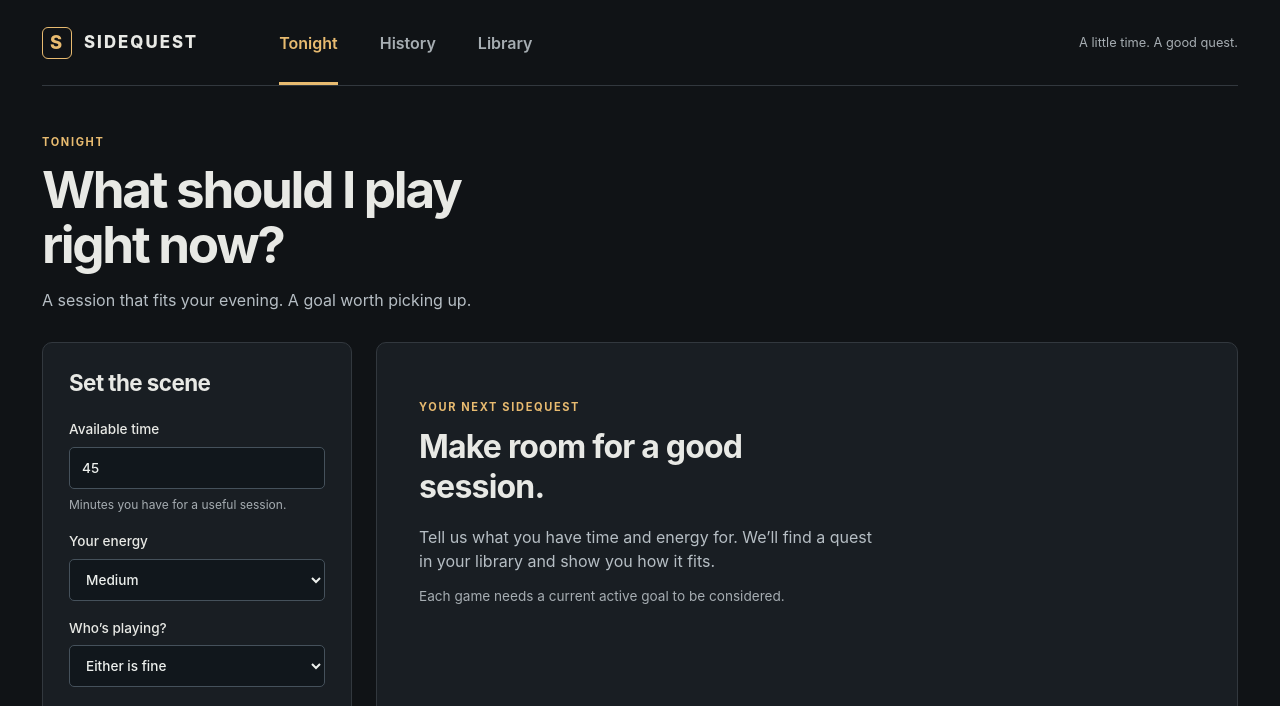
Test: Tonight › constructs the four-field request from controls
Step 1. Replace the text in the number field labelled "Available time" with "90" → (197, 468), box [69,447,325,489]
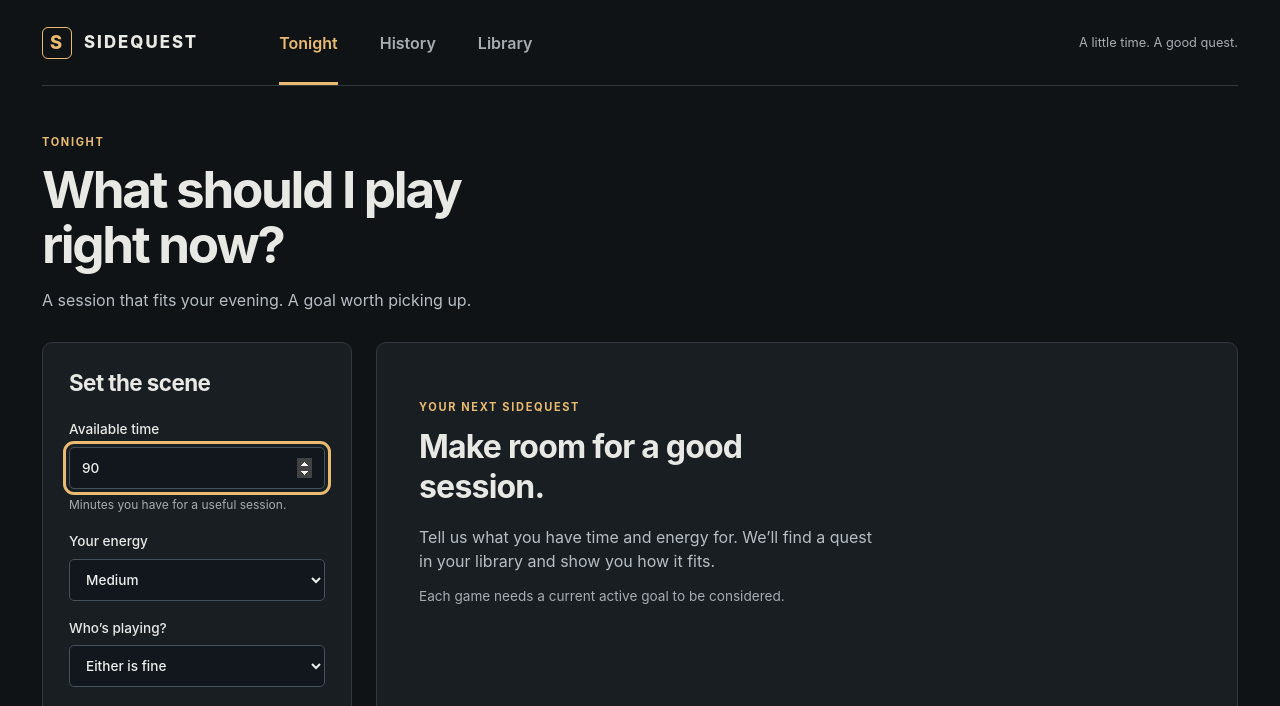
Step 2. Select "High" in the dropdown labelled "Your energy" → (197, 580), box [69,558,325,600]
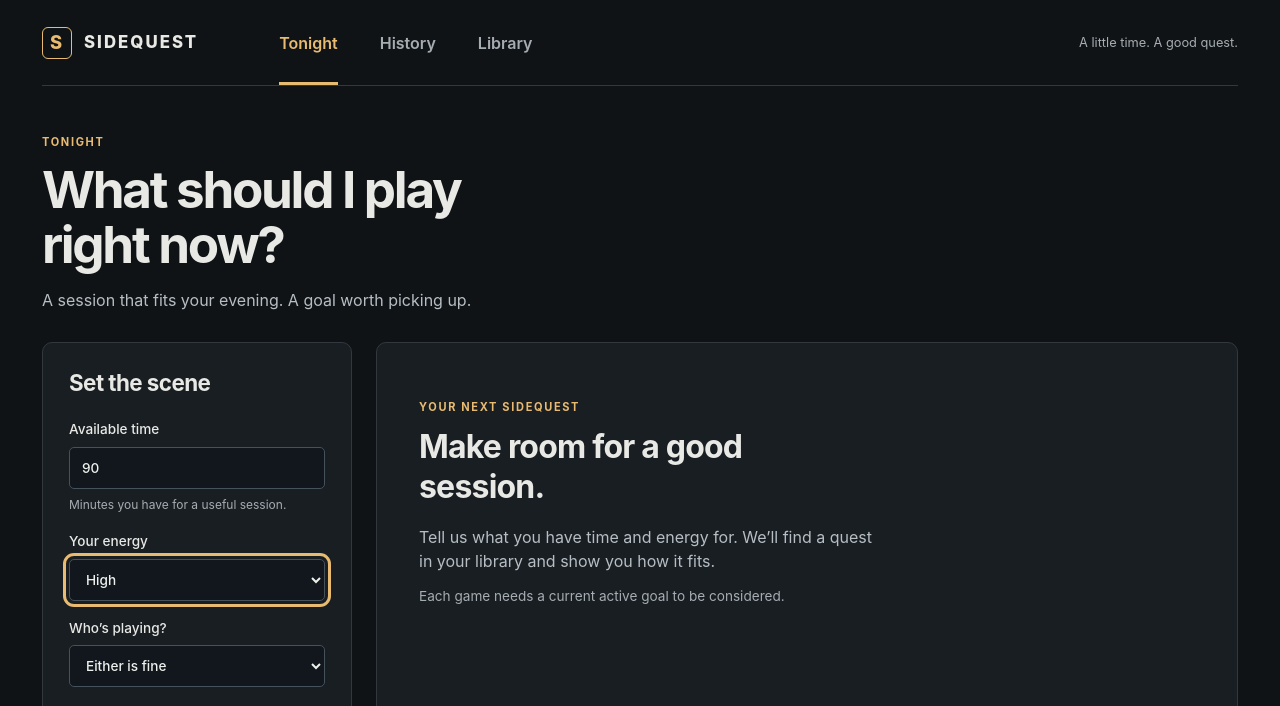
Step 3. Select "Something social" in the dropdown labelled "Who’s playing?" → (197, 666), box [69,645,325,687]
(page scrolled)
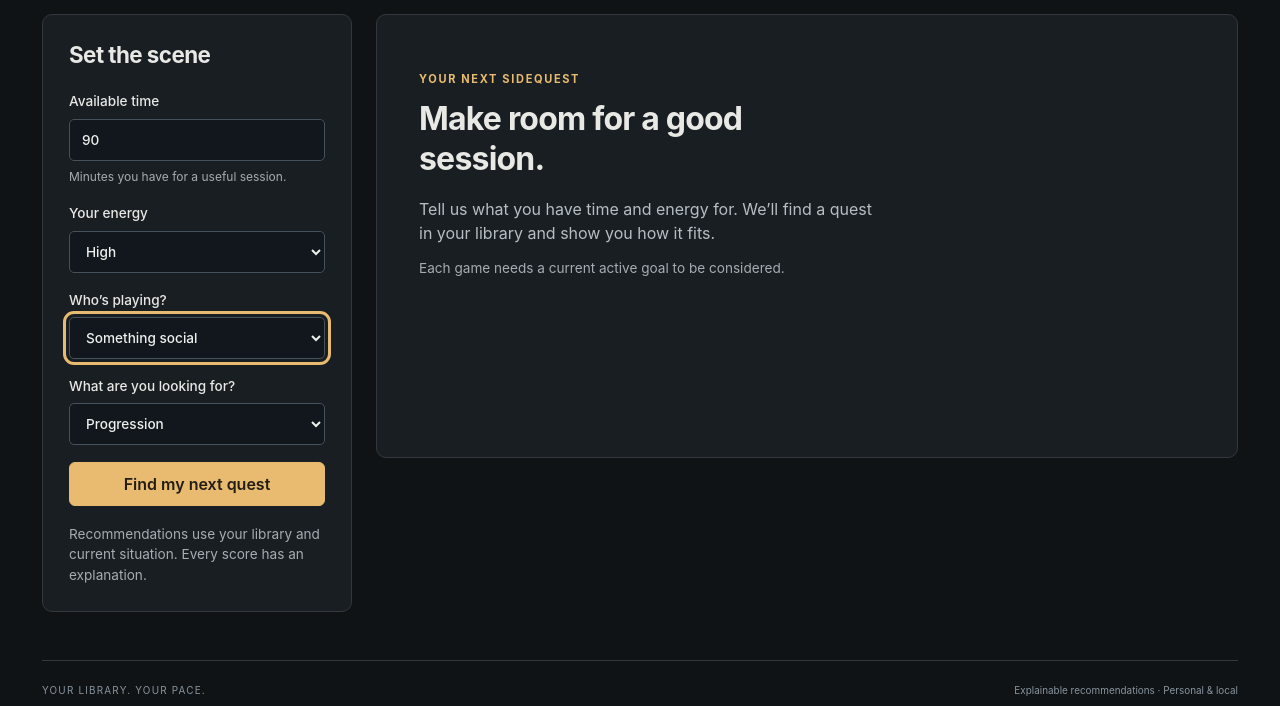
Step 4. Select "Challenge" in the dropdown labelled "What are you looking for?" → (197, 424), box [69,403,325,445]
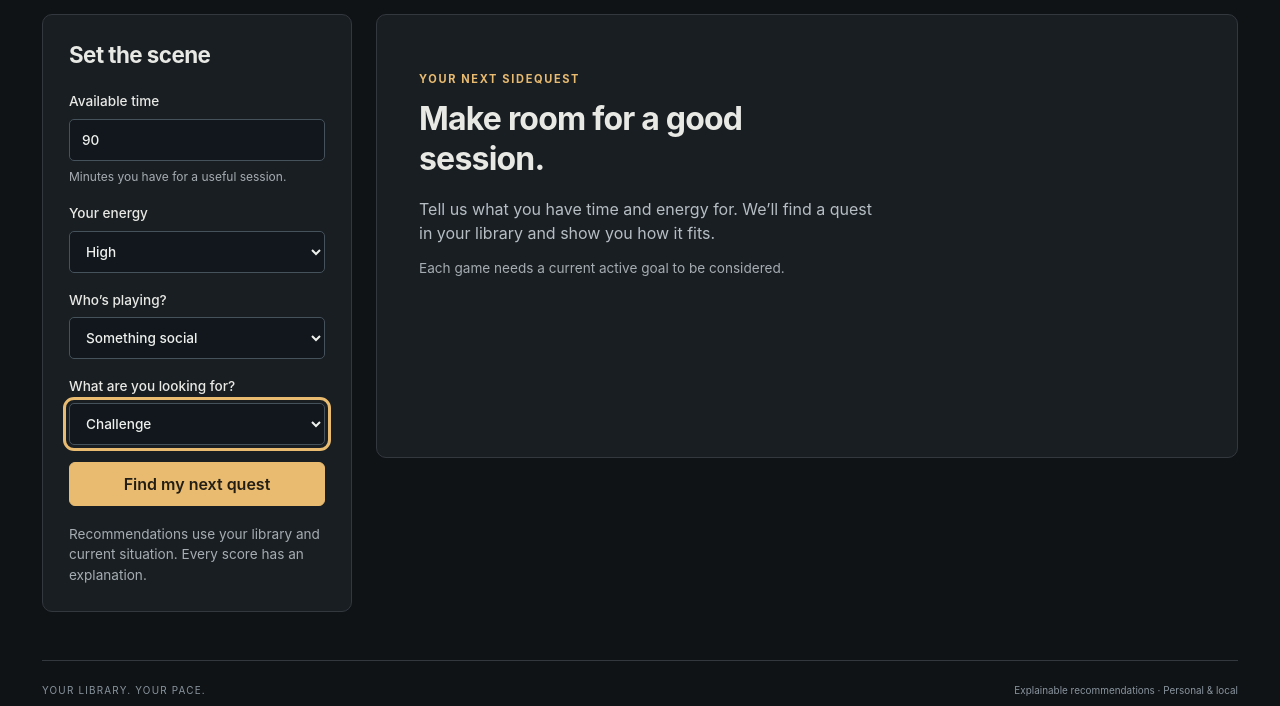
Step 5. Click the button "Find my next quest" → (197, 484), box [69,462,325,506]
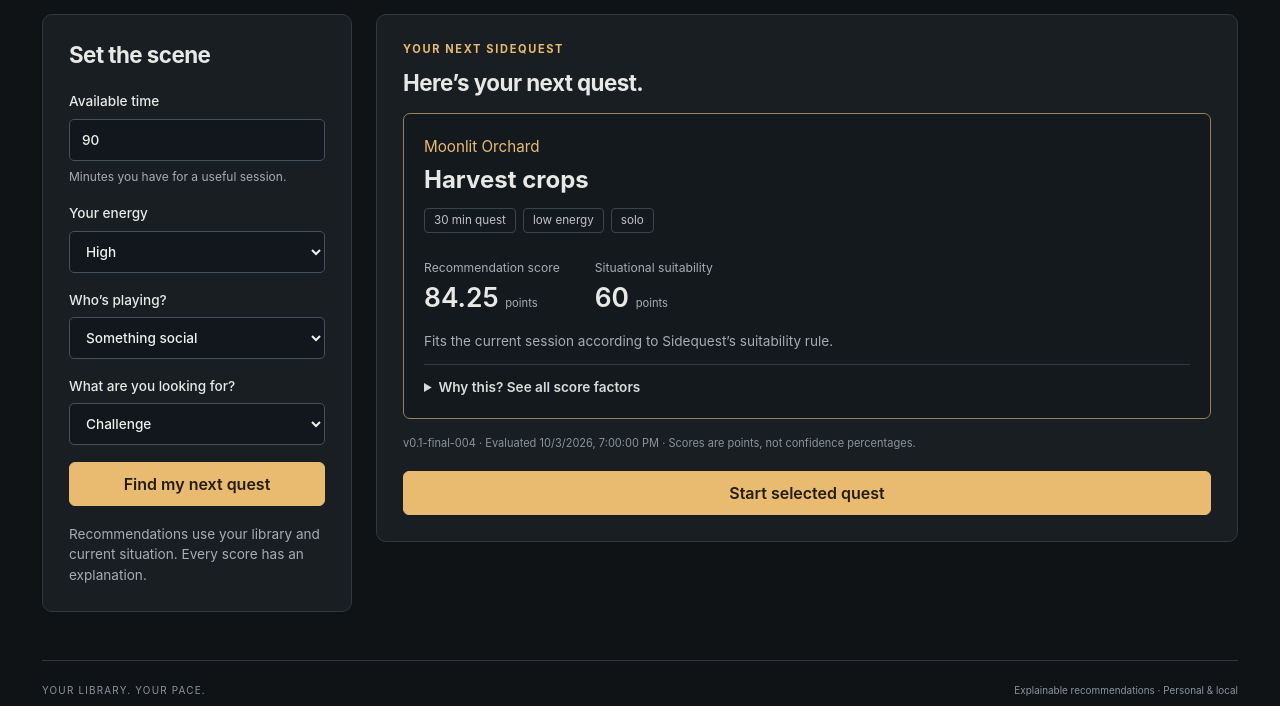
Now the heading "Here’s your next quest." is shown, box [403,69,643,96]
